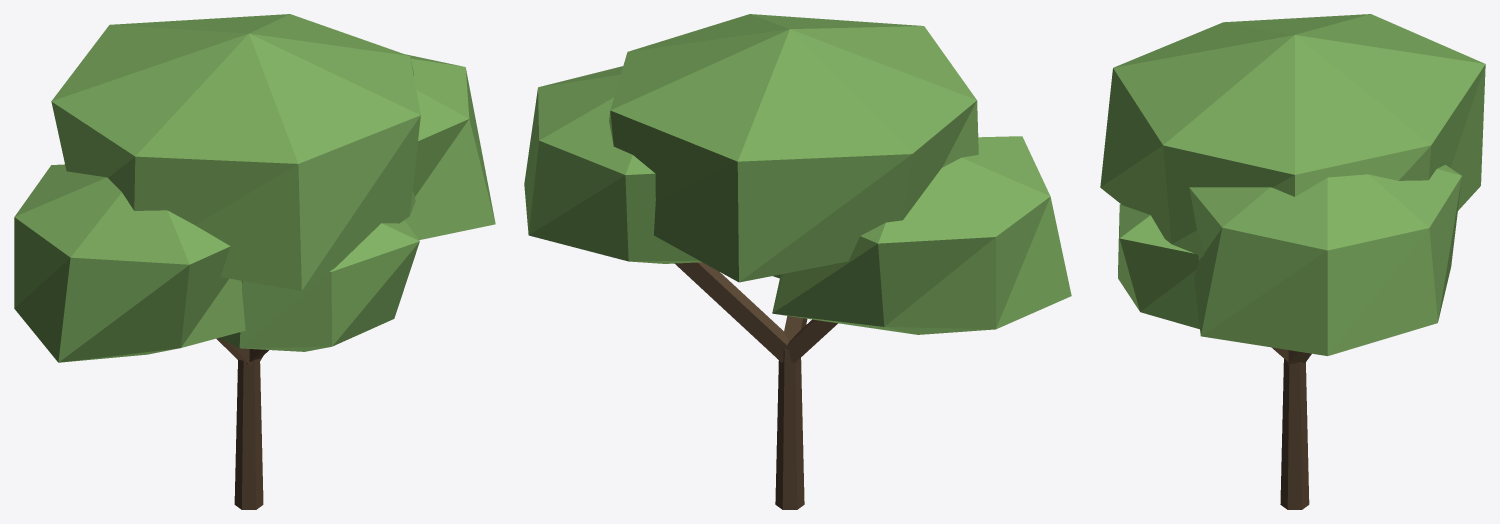
The model's file is sakura.glb.
The picture shows the model from 3 angles, left to right: view 1: azimuth 30°, elevation 25°; view 2: azimuth 150°, elevation 25°; view 3: azimuth 270°, elevation 25°; orthographic projection.
Visible parts, largest first — view 1: sakura; view 2: sakura; view 3: sakura.
Boxes of the visible parts, left/top/right/bottom form: sakura: left=14, top=14, right=495, bottom=509; sakura: left=524, top=14, right=1071, bottom=509; sakura: left=1100, top=14, right=1485, bottom=509.
Bounding box in the file's own units: 6.74 × 6.3 × 4.68.
